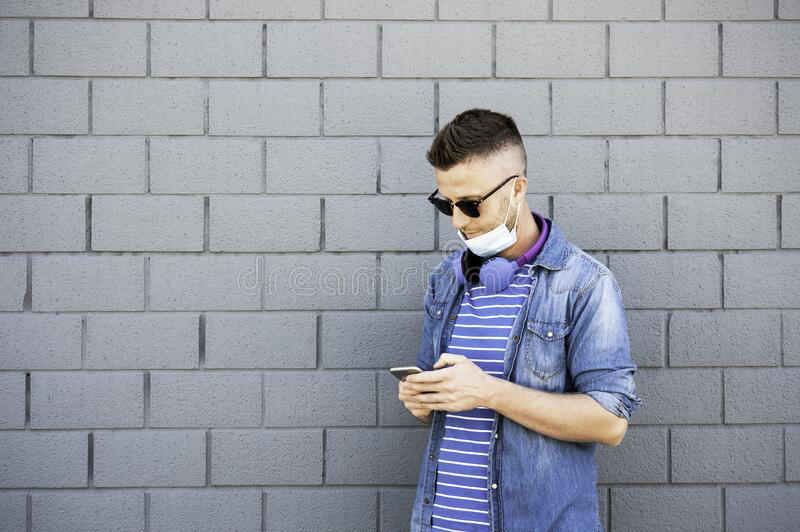mask_weared_incorrect: (427, 170, 520, 258)
